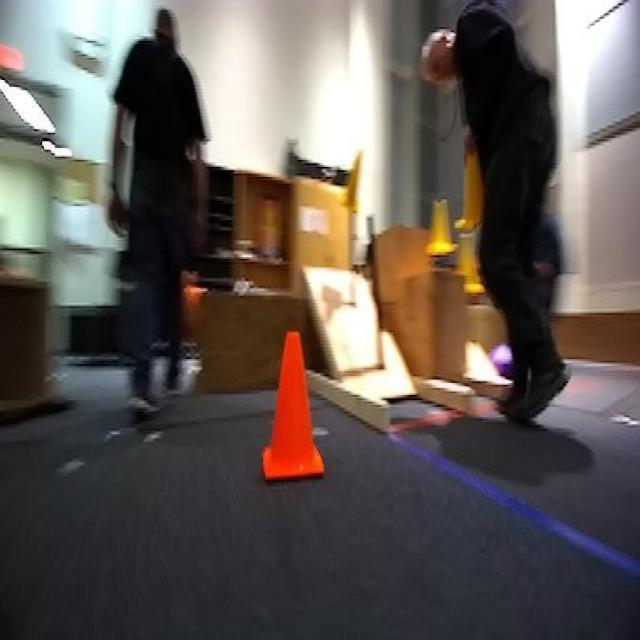frc_cone: (461, 152, 490, 233), (422, 194, 448, 272), (456, 223, 483, 294), (340, 150, 366, 211)
frc_cube: (489, 344, 516, 376)
